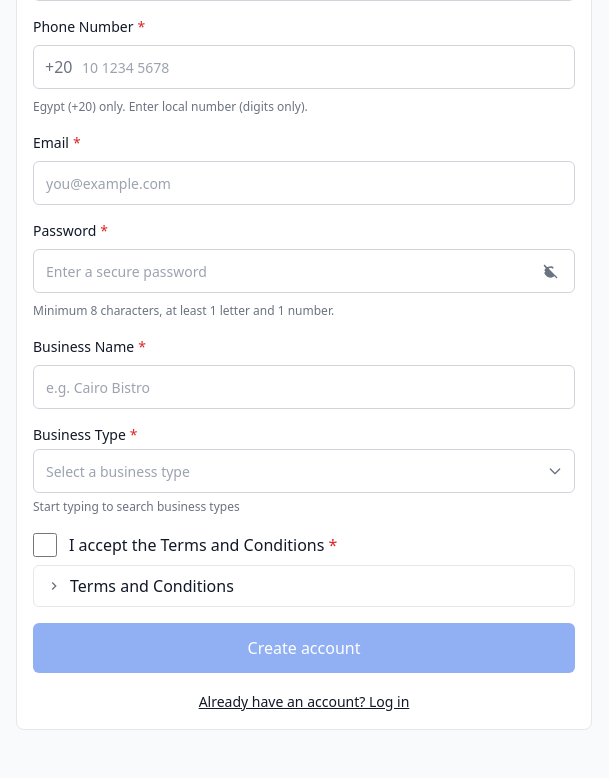
Test: Terms and Conditions Collapsible › maintains collapsible state
(page scrolled)
// Open terms
Click the button "Terms and Conditions". click: point(152, 586)
box: [34, 566, 574, 606]
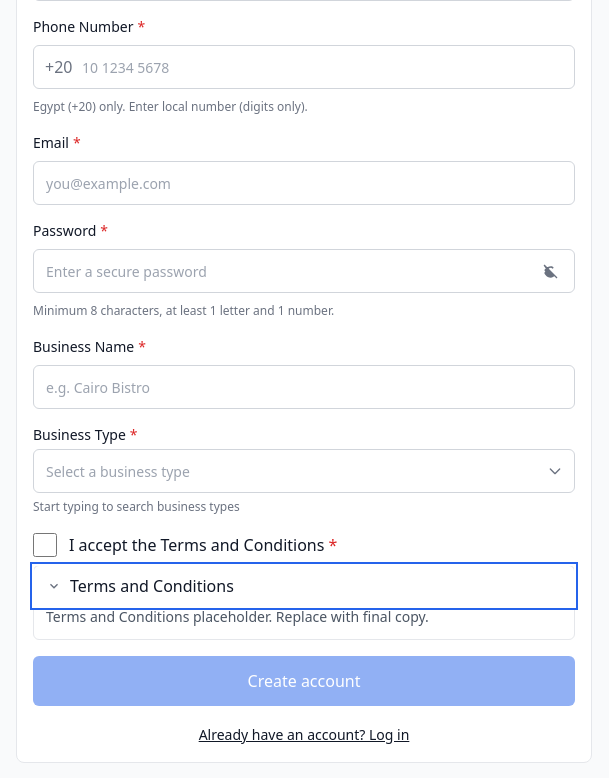
expect the text "Terms and Conditions placeholder. Replace with final copy." is shown: met, box [46, 607, 429, 626]
// Close terms
Click the button "Terms and Conditions". click: point(152, 586)
box: [34, 566, 574, 606]
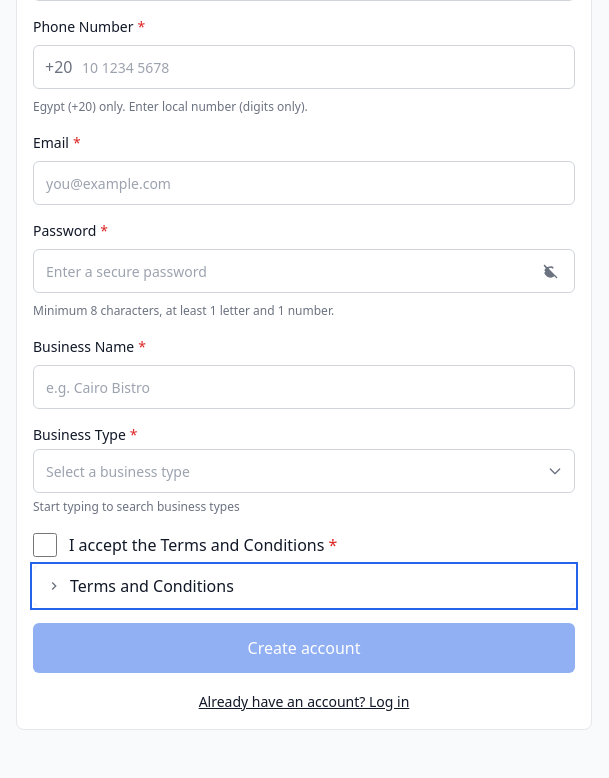
expect the text "Terms and Conditions placeholder" is gone: met
